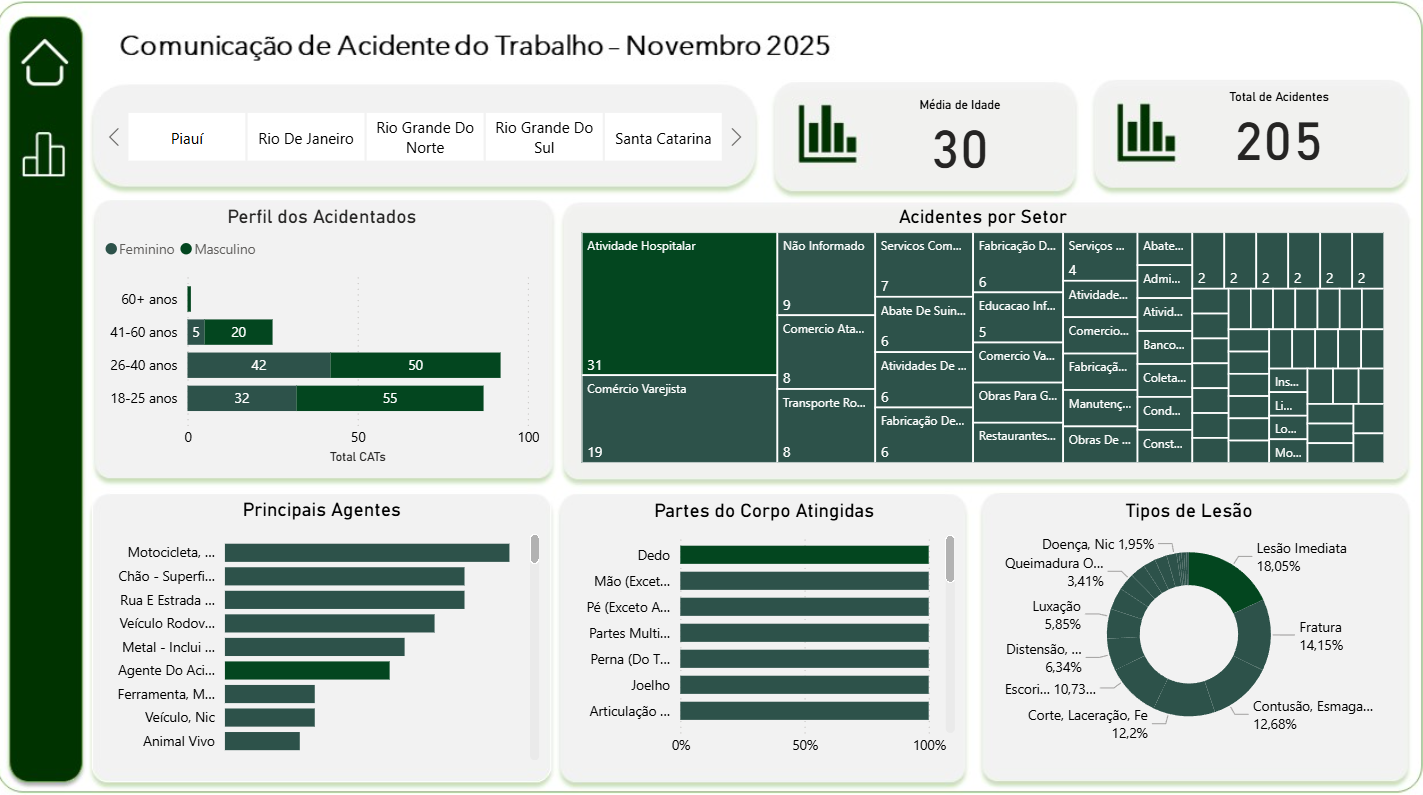

Layout of this report page (visuals, bound fields, positions):
{"tool":"powerbi","page":{"name":"Página 1","canvas":[1280,720],"ordinal":0},"visuals":[{"type":"card","title":"Total de Acidentes","fields":{"Values":["CAT_Novembro_Final_BI.Volume Total Final"]},"box":[1045.8,90.2,194.1,67.6],"z":0},{"type":"card","title":"Média de Idade","fields":{"Values":["CAT_Novembro_Final_BI.Idade Média Corrigida"]},"box":[769.4,97,183.3,67.6],"z":1000},{"type":"treemap","title":"Acidentes por Setor","fields":{"Group":["CAT_Novembro_Final_BI.Setor_Economico"],"Values":["CAT_Novembro_Final_BI.Total CATs"]},"box":[522.4,191.1,717.4,232.3],"z":2000},{"type":"barChart","title":"Perfil dos Acidentados","fields":{"Category":["CAT_Novembro_Final_BI.Faixa Etária Real"],"Y":["CAT_Novembro_Final_BI.Total CATs"],"Series":["CAT_Novembro_Final_BI.Sexo"]},"box":[101.9,191.1,393,232.3],"z":3000},{"type":"slicer","fields":{"Values":["CAT_Novembro_Final_BI.UF"]},"box":[102.2,103.3,573.1,54],"z":4000},{"type":"barChart","title":"Principais Agentes","fields":{"Category":["CAT_Novembro_Final_BI.Agente"],"Y":["CAT_Novembro_Final_BI.Total CATs"]},"box":[101.9,449.9,393,236.2],"z":5000},{"type":"donutChart","title":"Tipos de Lesão","fields":{"Category":["CAT_Novembro_Final_BI.Lesao"],"Y":["CAT_Novembro_Final_BI.Total CATs"]},"box":[892.9,450.8,340.1,219.5],"z":6000},{"type":"hundredPercentStackedBarChart","title":"Partes do Corpo Atingidas","fields":{"Category":["CAT_Novembro_Final_BI.Parte_Corpo"],"Y":["CountNonNull(CAT_Novembro_Final_BI.Parte_Corpo)"]},"box":[515.5,450.8,346,235.2],"z":7000},{"type":"actionButton","box":[34.2,49.9,40,40],"z":8000}]}

Visuals, with their boxes on the page's 1280x720 design canvas (x1, y1, x2, y2). These are canvas units, not pixel positions in the 1423x795 screenshot, which may show the page scaled, cropped or inside an application window:
"Total de Acidentes" card: bbox=[1046, 90, 1240, 158]
"Média de Idade" card: bbox=[769, 97, 953, 165]
"Acidentes por Setor" treemap: bbox=[522, 191, 1240, 423]
"Perfil dos Acidentados" barChart: bbox=[102, 191, 495, 423]
slicer - CAT_Novembro_Final_BI.UF: bbox=[102, 103, 675, 157]
"Principais Agentes" barChart: bbox=[102, 450, 495, 686]
"Tipos de Lesão" donutChart: bbox=[893, 451, 1233, 670]
"Partes do Corpo Atingidas" hundredPercentStackedBarChart: bbox=[516, 451, 862, 686]
actionButton: bbox=[34, 50, 74, 90]
